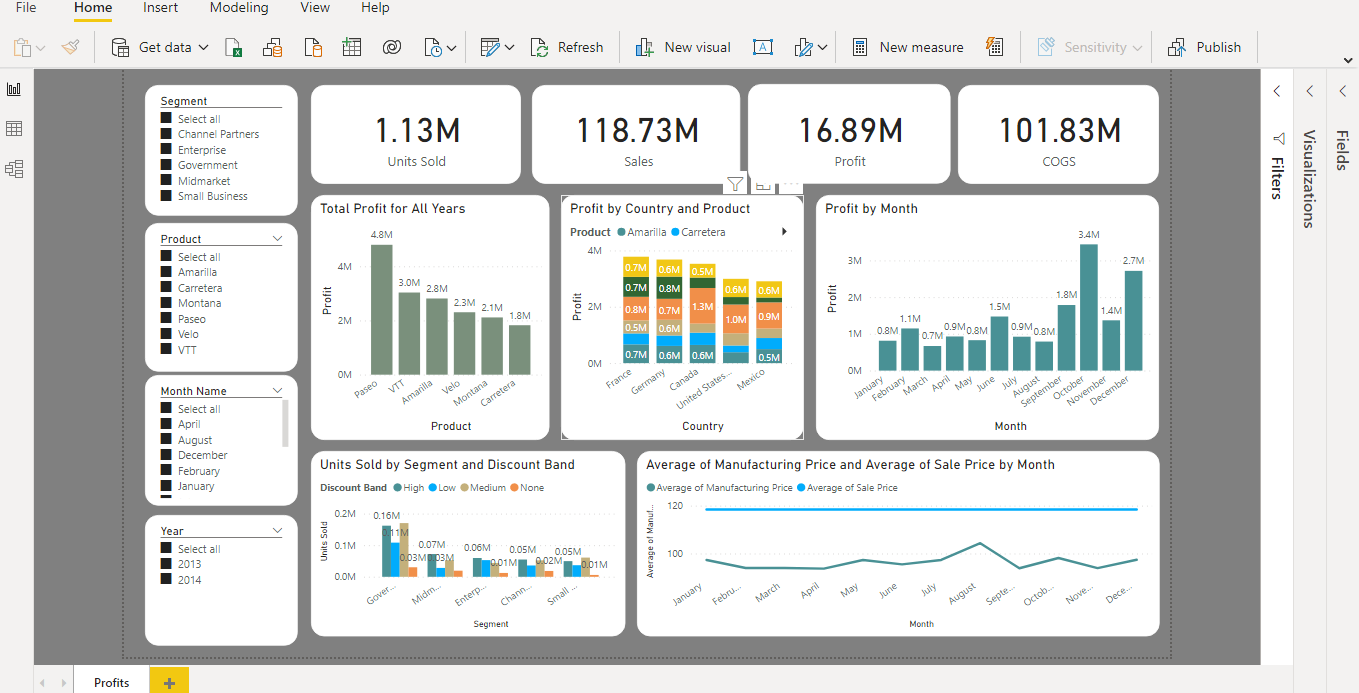

This screenshot's page, from the dashboard's own definition file:
{"tool":"powerbi","page":{"name":"Profits","canvas":[1280,720],"ordinal":0},"visuals":[{"type":"card","fields":{"Values":["Sum(financials.Units Sold)"]},"box":[228.5,19.3,257.4,121.1],"z":0},{"type":"card","fields":{"Values":["Sum(financials. Sales)"]},"box":[499.6,19.3,254.6,121.1],"z":1000},{"type":"columnChart","fields":{"Category":["financials.Country"],"Y":["Sum(financials.Profit)"],"Series":["financials.Product"]},"box":[535.4,154.2,297.3,300],"z":2000},{"type":"card","fields":{"Values":["Sum(financials.Profit)"]},"box":[764.2,18.7,247.6,121.8],"z":3000},{"type":"clusteredColumnChart","fields":{"Category":["financials.Product"],"Y":["Sum(financials.Profit)"]},"box":[228.5,154.2,291.8,300],"z":4000},{"type":"slicer","fields":{"Values":["financials.Segment"]},"box":[26.2,19.3,187.2,159.7],"z":5000},{"type":"slicer","fields":{"Values":["financials.Product"]},"box":[26.2,188.6,187.2,181.7],"z":6000},{"type":"slicer","fields":{"Values":["financials.Month Name"]},"box":[26.2,374.4,187.2,159.7],"z":7000},{"type":"clusteredColumnChart","fields":{"Category":["financials.Segment"],"Series":["financials.Discount Band"],"Y":["Sum(financials.Units Sold)"]},"box":[228.5,468,385.4,227.1],"z":8000},{"type":"slicer","fields":{"Values":["financials.Date.Variation.Date Hierarchy.Year"]},"box":[26.2,546.4,187.2,159.7],"z":9000},{"type":"card","fields":{"Values":["Sum(financials.COGS)"]},"box":[1021.2,19.3,246.4,121.1],"z":10000},{"type":"clusteredColumnChart","fields":{"Y":["Sum(financials.Profit)"],"Category":["financials.Date.Variation.Date Hierarchy.Month"]},"box":[847.8,154.2,419.8,300],"z":11000},{"type":"lineChart","fields":{"Category":["financials.Date.Variation.Date Hierarchy.Month","financials.Date.Variation.Date Hierarchy.Day"],"Y":["Avg(financials.Manufacturing Price)","Avg(financials.Sale Price)"]},"box":[627.7,468.1,639.6,226.8],"z":12000}]}

Visuals, with their boxes on the page's 1280x720 design canvas (x1, y1, x2, y2). These are canvas units, not pixel positions in the 1359x693 screenshot, which may show the page scaled, cropped or inside an application window:
card - Sum(financials.Units Sold): (228, 19, 486, 140)
card - Sum(financials. Sales): (500, 19, 754, 140)
columnChart - financials.Country x Sum(financials.Profit): (535, 154, 833, 454)
card - Sum(financials.Profit): (764, 19, 1012, 140)
clusteredColumnChart - financials.Product x Sum(financials.Profit): (228, 154, 520, 454)
slicer - financials.Segment: (26, 19, 213, 179)
slicer - financials.Product: (26, 189, 213, 370)
slicer - financials.Month Name: (26, 374, 213, 534)
clusteredColumnChart - financials.Segment x financials.Discount Band: (228, 468, 614, 695)
slicer - financials.Date.Variation.Date Hierarchy.Year: (26, 546, 213, 706)
card - Sum(financials.COGS): (1021, 19, 1268, 140)
clusteredColumnChart - Sum(financials.Profit) x financials.Date.Variation.Date Hierarchy.Month: (848, 154, 1268, 454)
lineChart - financials.Date.Variation.Date Hierarchy.Month x financials.Date.Variation.Date Hierarchy.Day: (628, 468, 1267, 695)
